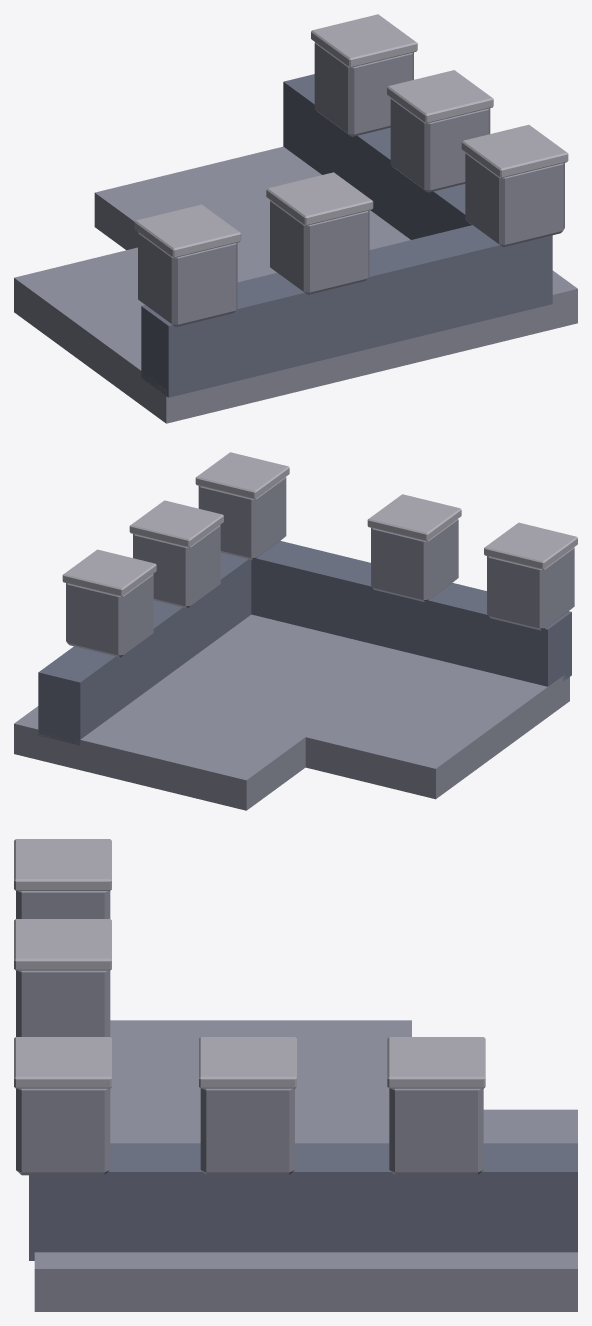
Rendered from EG_Adarve_Esquina.fbx.
3 renders of one model, top to bottom at view 1: azimuth 30°, elevation 25°; view 2: azimuth 150°, elevation 25°; view 3: azimuth 270°, elevation 25°, orthographic. The views are drawn at different scales.
Parts seen in each view (by area): view 1: EG_Adarve_Esquina; view 2: EG_Adarve_Esquina; view 3: EG_Adarve_Esquina.
Part boxes in pixels (x1,y1,x2,y2): EG_Adarve_Esquina: (14, 14, 577, 423); EG_Adarve_Esquina: (14, 452, 577, 810); EG_Adarve_Esquina: (14, 839, 577, 1311).
Bounding box in the file's own units: 3.13 × 1.31 × 2.99.
Materials: 1 (1 with a texture image).
